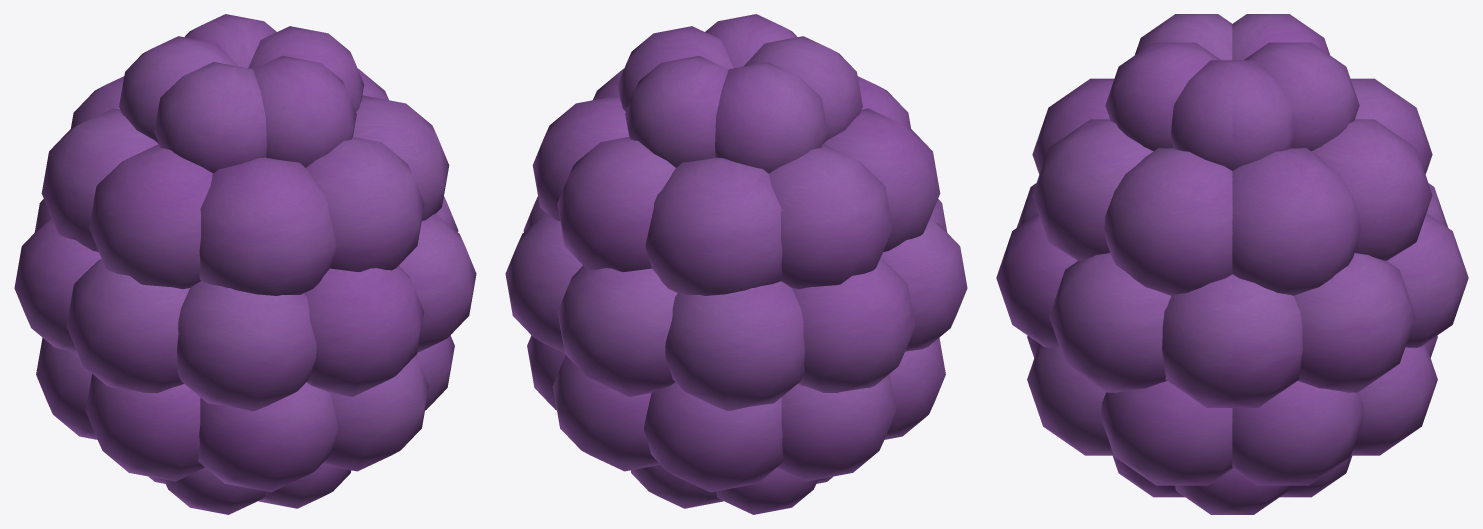
File: blackberry-DIWuWcw_.glb
The picture shows the model from 3 angles, left to right: view 1: azimuth 30°, elevation 25°; view 2: azimuth 150°, elevation 25°; view 3: azimuth 270°, elevation 25°; orthographic projection.
Parts seen in each view (by area): view 1: FLV5_L02_Blackberry; view 2: FLV5_L02_Blackberry; view 3: FLV5_L02_Blackberry.
Boxes of the visible parts, box(x1,y1,x2,y2) form: FLV5_L02_Blackberry: box(14, 14, 476, 514); FLV5_L02_Blackberry: box(505, 14, 967, 514); FLV5_L02_Blackberry: box(996, 14, 1468, 514).
Bounding box in the file's own units: 0.3179 × 0.3412 × 0.3267.
1 material, 1 textured.
